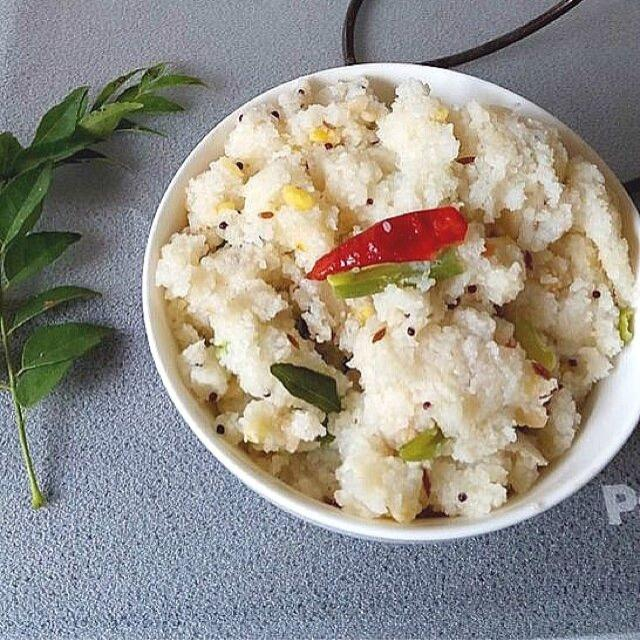UPMA: (154, 79, 635, 529)
